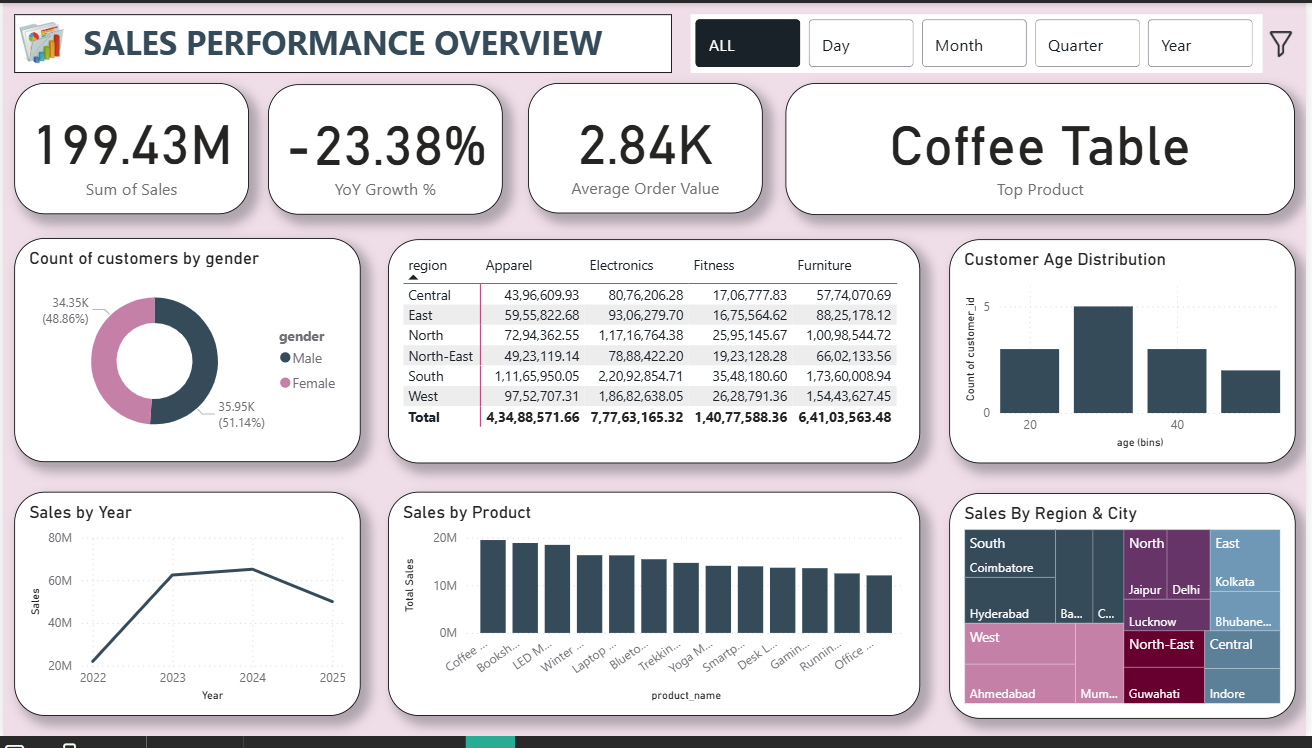

Layout of this report page (visuals, bound fields, positions):
{"tool":"powerbi","page":{"name":"Report","canvas":[1280,720],"ordinal":0},"visuals":[{"type":"image","box":[1236.8,14.3,35.6,51.5],"z":0,"group":"g1"},{"type":"lineChart","title":"Sales by Year","fields":{"Category":["public dim_date.date_id.Variation.Date Hierarchy.Year","public dim_date.date_id.Variation.Date Hierarchy.Month"],"Y":["Measure Table.Total Amount"]},"box":[11.2,480.2,340,220.2],"z":0},{"type":"card","fields":{"Values":["Measure Table.Top Product by Region"]},"box":[767.5,78.4,500.1,129.4],"z":1000,"group":"g1"},{"type":"columnChart","title":"Customer Age Distribution","fields":{"Y":["CountNonNull(public dim_customer.customer_id)"],"Category":["public dim_customer.age (bins)"]},"box":[928,231.4,339.6,220.2],"z":2000,"group":"g1"},{"type":"clusteredColumnChart","title":"Sales by Product","fields":{"Category":["public dim_product.product_name"],"Y":["Measure Table.Total Sales"]},"box":[378.2,480.2,522.5,220.2],"z":2000},{"type":"treemap","title":"Sales By Region & City","fields":{"Group":["public dim_store.region"],"Details":["public dim_store.city"],"Values":["Measure Table._Total Amount (Dynamic)"]},"box":[928,480.2,339.6,221.4],"z":3000,"group":"g1"},{"type":"actionButton","box":[949.3,633.4,119.7,50.5],"z":4000},{"type":"donutChart","title":"Count of customers by gender","fields":{"Category":["public dim_customer.gender"],"Y":["CountNonNull(public fact_sales.customer_id)"]},"box":[11.2,230.1,340,220.2],"z":5000},{"type":"pivotTable","fields":{"Rows":["public dim_store.region"],"Columns":["public dim_product.category"],"Values":["Measure Table.Total Sales"]},"box":[378.2,231.4,522.5,220.2],"z":7000},{"type":"actionButton","box":[1073.4,634.8,112.5,50.5],"z":8000},{"type":"card","fields":{"Values":["Sum(public fact_sales.total_amount)"]},"box":[11,78,230,129],"z":9000},{"type":"card","fields":{"Values":["Measure Table.YoY Growth %"]},"box":[260,79.6,230,128.1],"z":11000},{"type":"card","fields":{"Values":["Measure Table.Average Order Value"]},"box":[515,78.4,230,128.1],"z":13000},{"type":"image","box":[157.1,7.4,66.3,63.8],"z":14000},{"type":"textbox","box":[11,11,645.4,57.7],"z":15000},{"type":"group","id":"g1","title":"Group 1","box":[767.5,14.3,504.9,687.3],"z":16000},{"type":"image","box":[11.5,10.1,54.8,57.7],"z":17000},{"type":"advancedSlicerVisual","fields":{"Values":["Time Intelligence.Measure"]},"box":[675.2,11.5,561.2,57.7],"z":18000}]}

Visuals, with their boxes in screenshot pixels (x1, y1, x2, y2), scaled from the page's 1280x720 canvas onto the 1312x748 screenshot:
image: 1268 15 1304 68
"Sales by Year" lineChart: 11 499 360 728
card - Measure Table.Top Product by Region: 787 81 1299 216
"Customer Age Distribution" columnChart: 951 240 1299 469
"Sales by Product" clusteredColumnChart: 388 499 923 728
"Sales By Region & City" treemap: 951 499 1299 729
actionButton: 973 658 1096 710
"Count of customers by gender" donutChart: 11 239 360 468
pivotTable - public dim_store.region x public dim_product.category: 388 240 923 469
actionButton: 1100 659 1216 712
card - Sum(public fact_sales.total_amount): 11 81 247 215
card - Measure Table.YoY Growth %: 266 83 502 216
card - Measure Table.Average Order Value: 528 81 764 215
image: 161 8 229 74
textbox: 11 11 673 71
"Group 1" group: 787 15 1304 729
image: 12 10 68 70
advancedSlicerVisual - Time Intelligence.Measure: 692 12 1267 72
